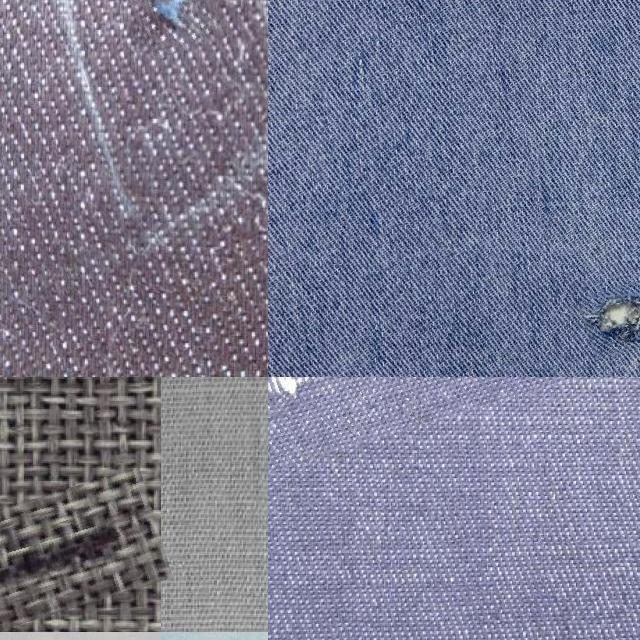Thread_other: (0, 481, 167, 625)
other: (581, 282, 640, 357)
stains: (268, 377, 640, 450), (126, 0, 218, 57)
